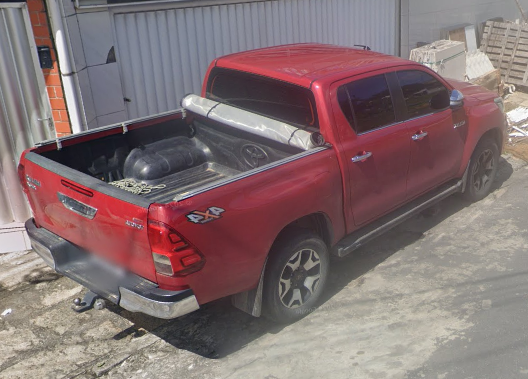car: (14, 41, 512, 329)
